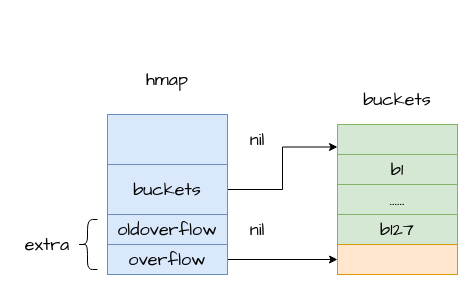
Image size: 475x292. Some labels were removed from this diagram. Here are the shapes that lost their labels. From the top down, the centre of each, then its label:
At pixel 167 139: "oldBuckets".
At pixel 397 139: "b0".
At pixel 397 259: "o0".
